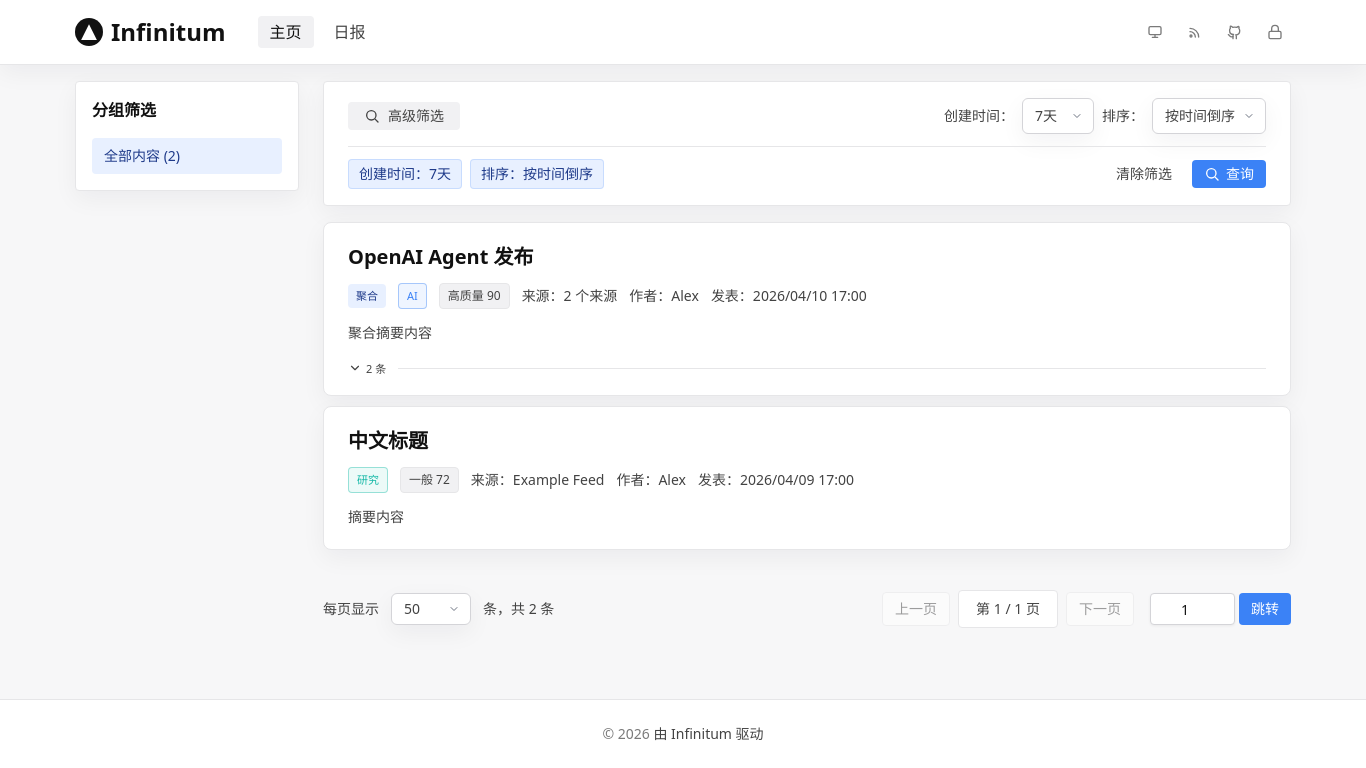
FeedPanel › loads cluster items on demand when expanded
Step 1. Click the button named "展开相关内容" → (367, 368), box x1=348 y1=361 x2=386 y2=375
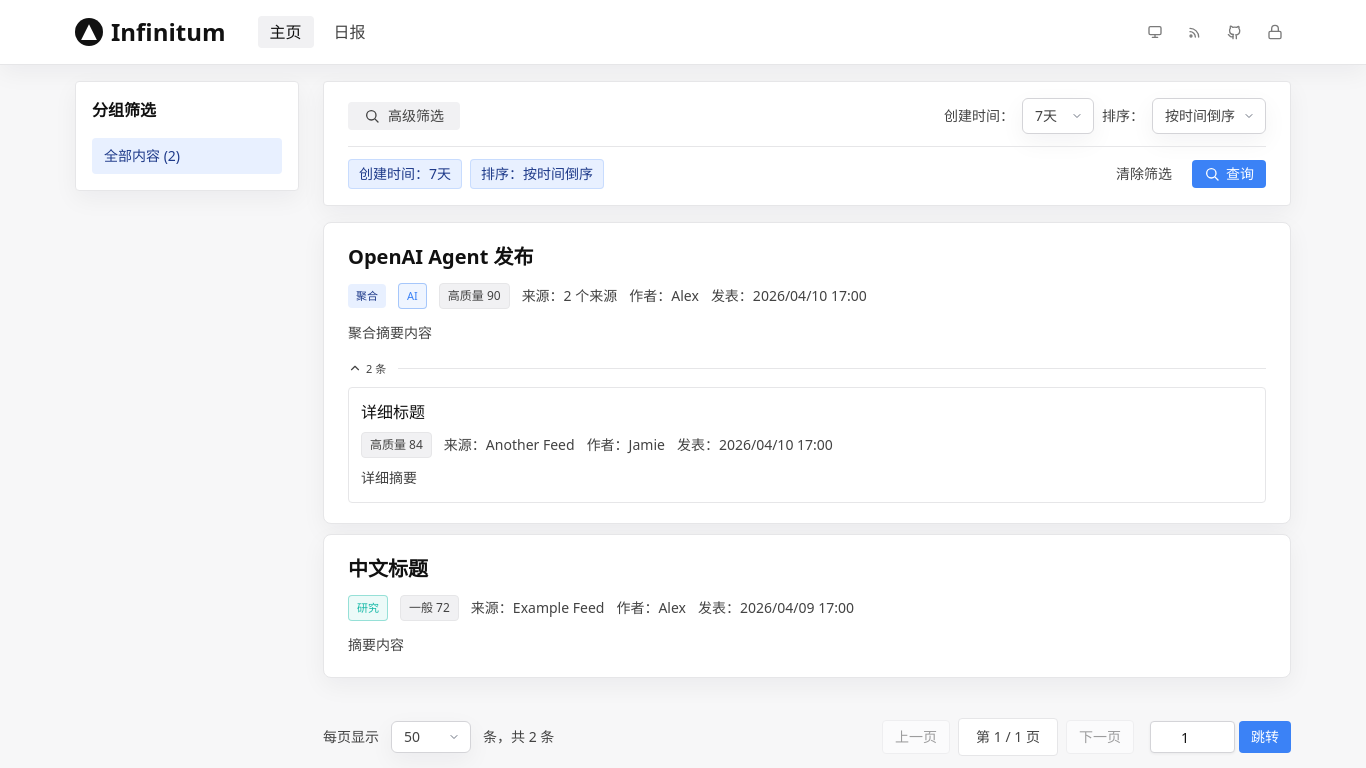
Now the link "详细标题" is shown, box x1=361 y1=401 x2=425 y2=423
Now the text "详细摘要" is shown, box x1=361 y1=468 x2=417 y2=487
